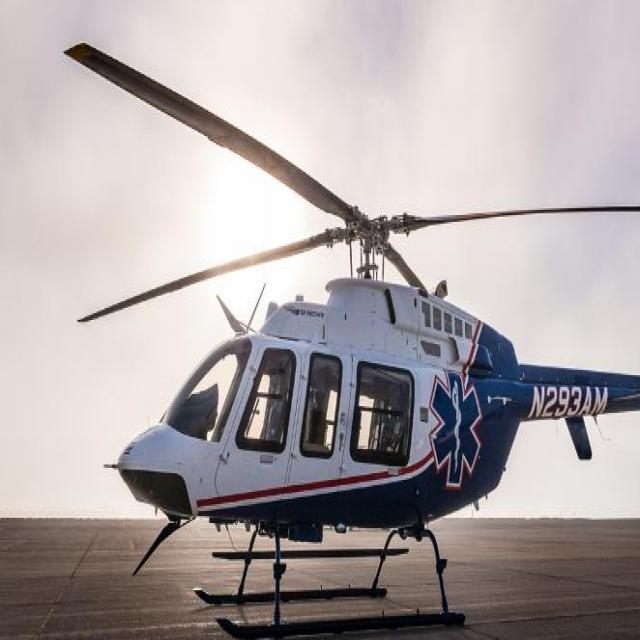helicopter: (80, 1, 640, 640)
